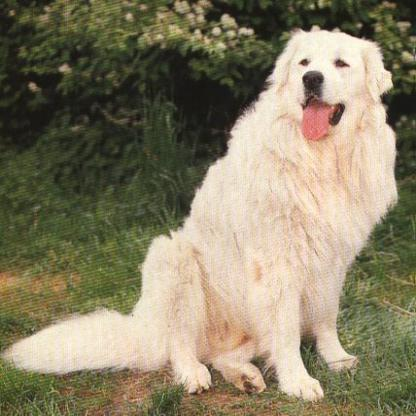kuvasz: (0, 27, 397, 401)
